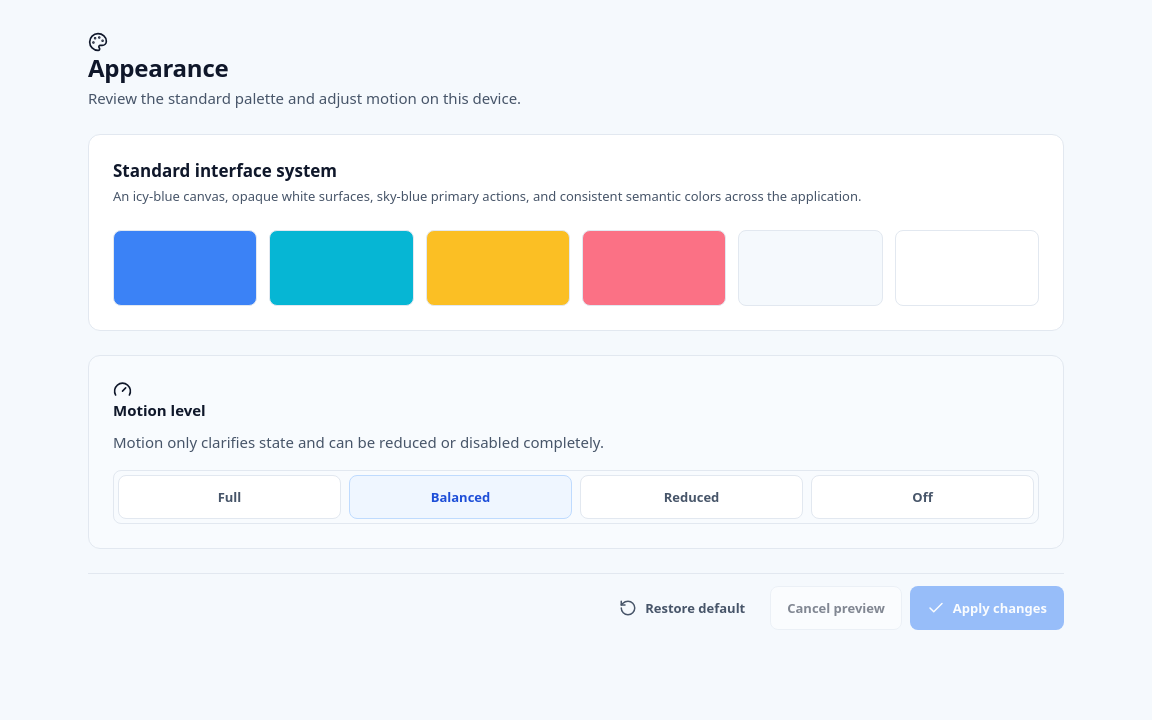
AppearanceSettingsPage › previews, cancels, and explicitly applies motion preferences
Click the radio button labelled "Reduced" at (692,497), box 580,475 -> 803,519
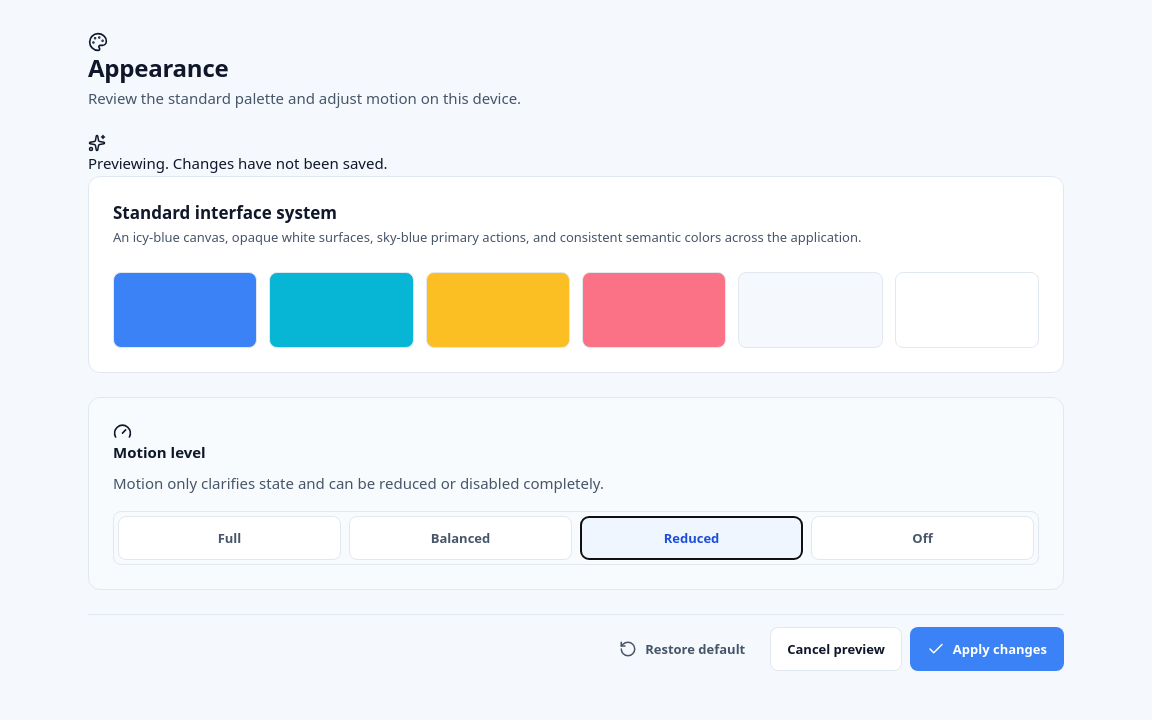
Check: the text "Previewing. Changes have not been saved." is shown, box 88,153 -> 388,173
Click the button "Cancel preview" at (836,649), box 770,627 -> 902,671
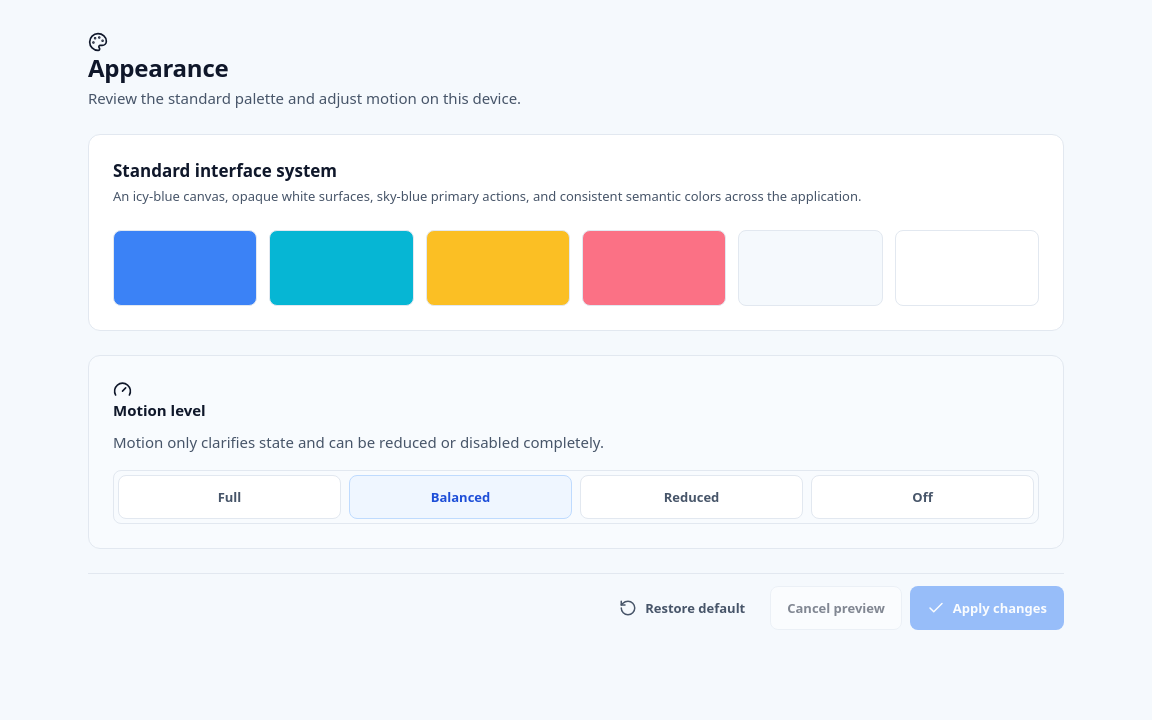
Check: the radio button labelled "Balanced" is checked, box 349,475 -> 572,519
Click the radio button labelled "Off" at (922,497), box 811,475 -> 1034,519
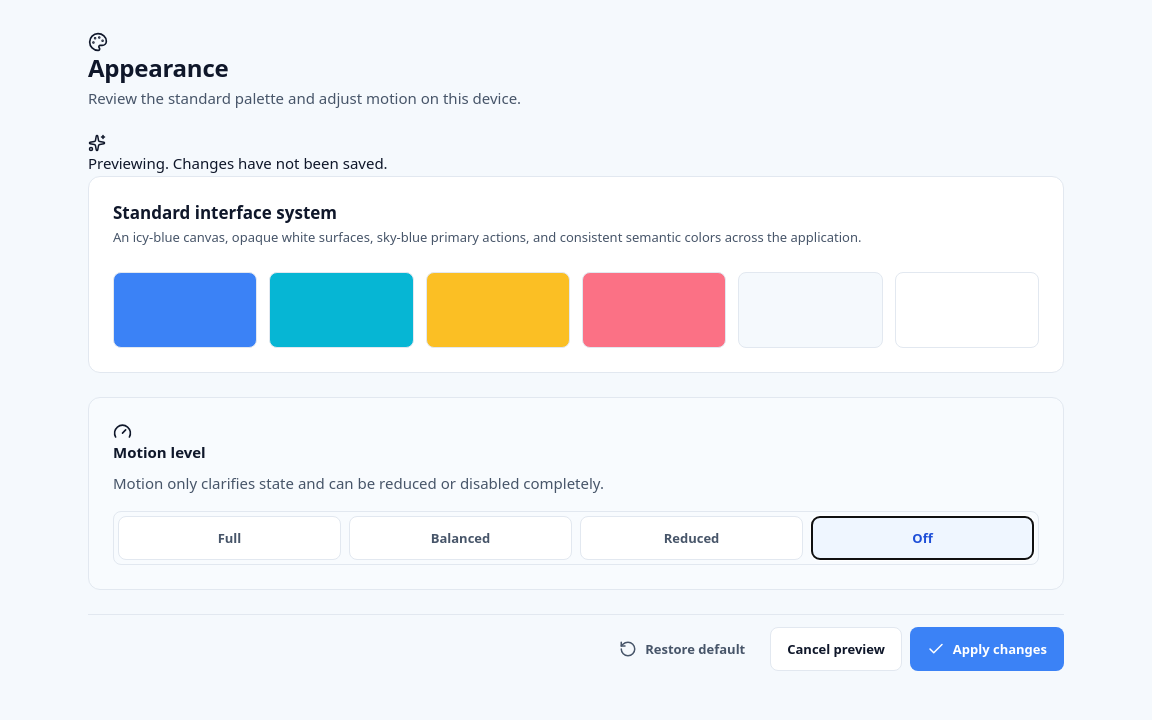
Click the button "Apply changes" at (987,649), box 910,627 -> 1064,671
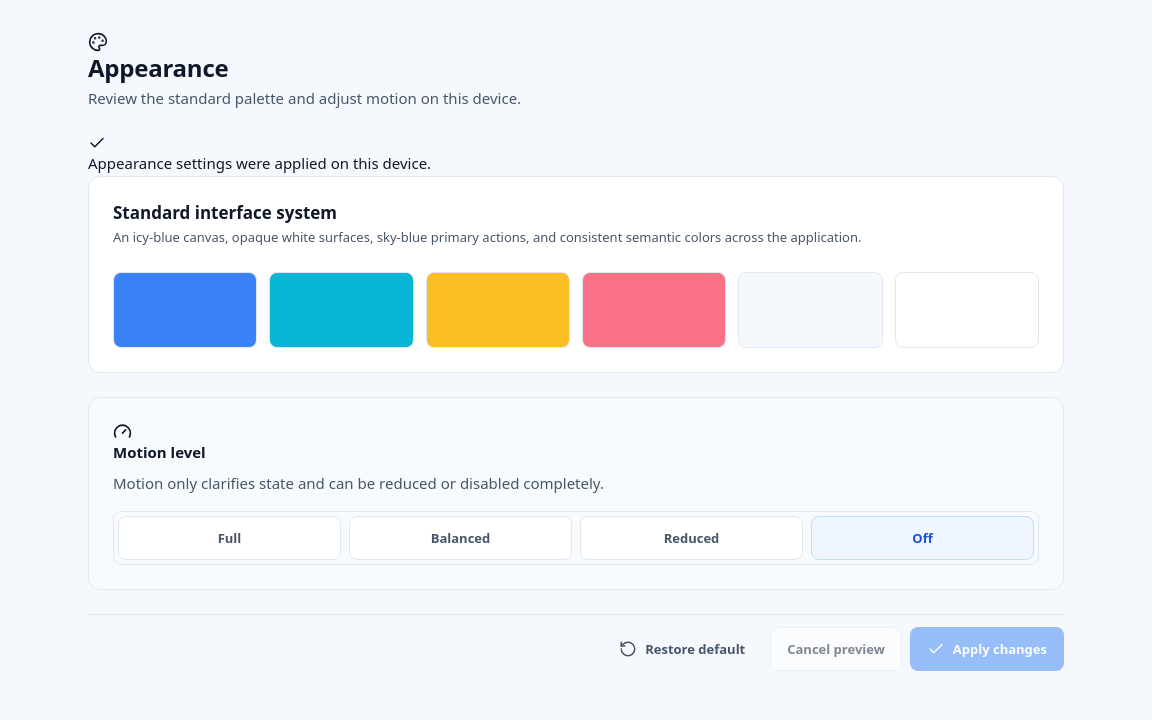
Check: the text "Appearance settings were applied on this device." is shown 2 times
Check: the button "Apply changes" is disabled, box 910,627 -> 1064,671
